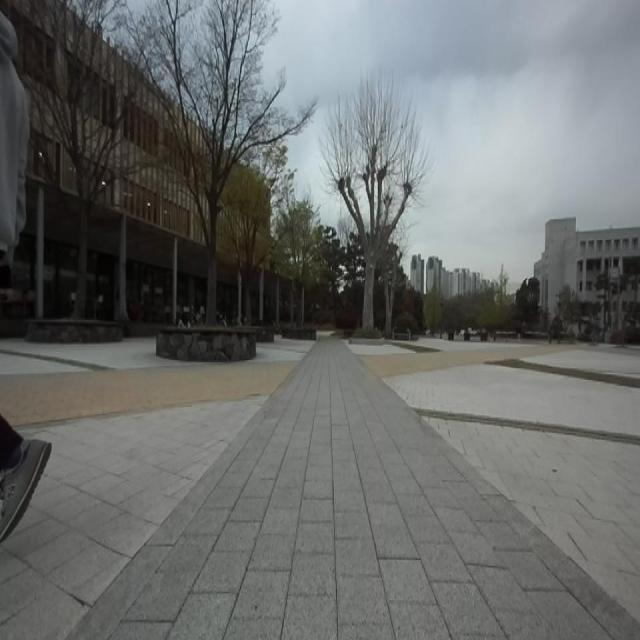sidewalk: (70, 339, 640, 639)
